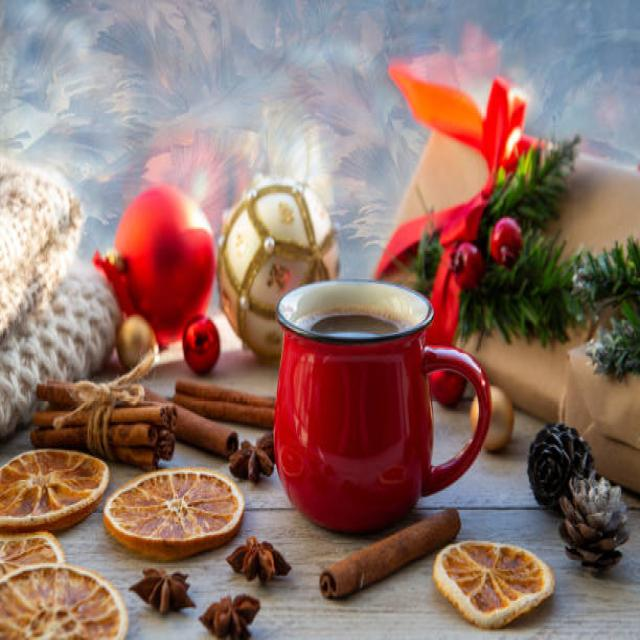Red_cup: (274, 281, 491, 531)
